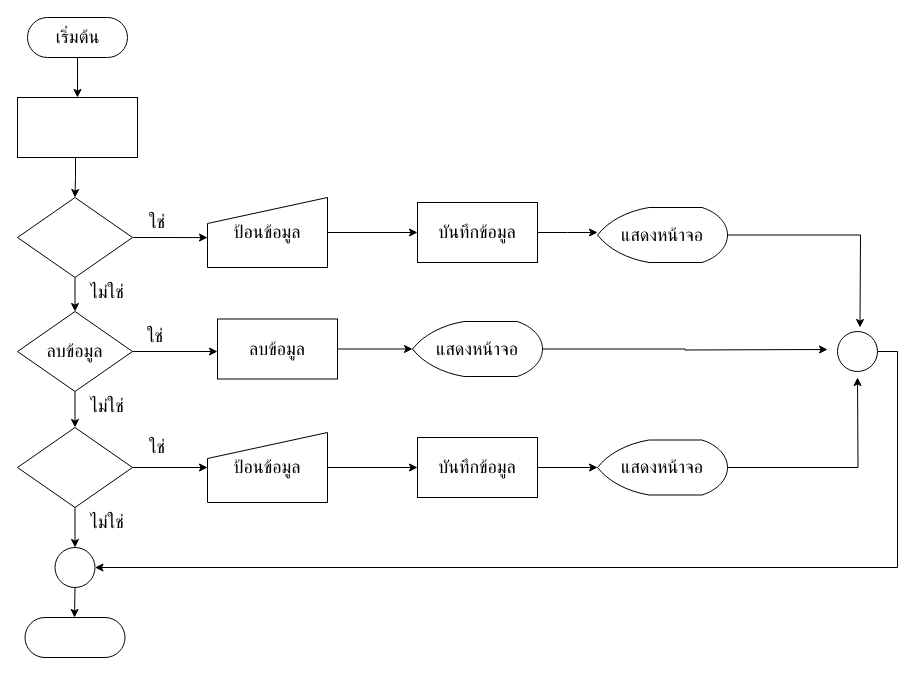
Image size: 923x675. Some labels were removed from this diagram. Each missing label, with the centre of its shape:
"สิ้นสุด" belongs at (74,637).
"เพิ่มข้อมูล" belongs at (74,237).
"เลือกจัดการข้อมูล" belongs at (77,127).
"แก้ไขข้อมูล" belongs at (74,467).
